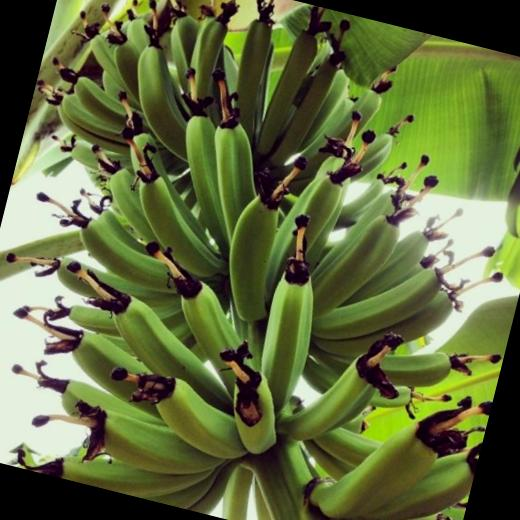Banana: (0, 0, 520, 520), (246, 211, 342, 421)
